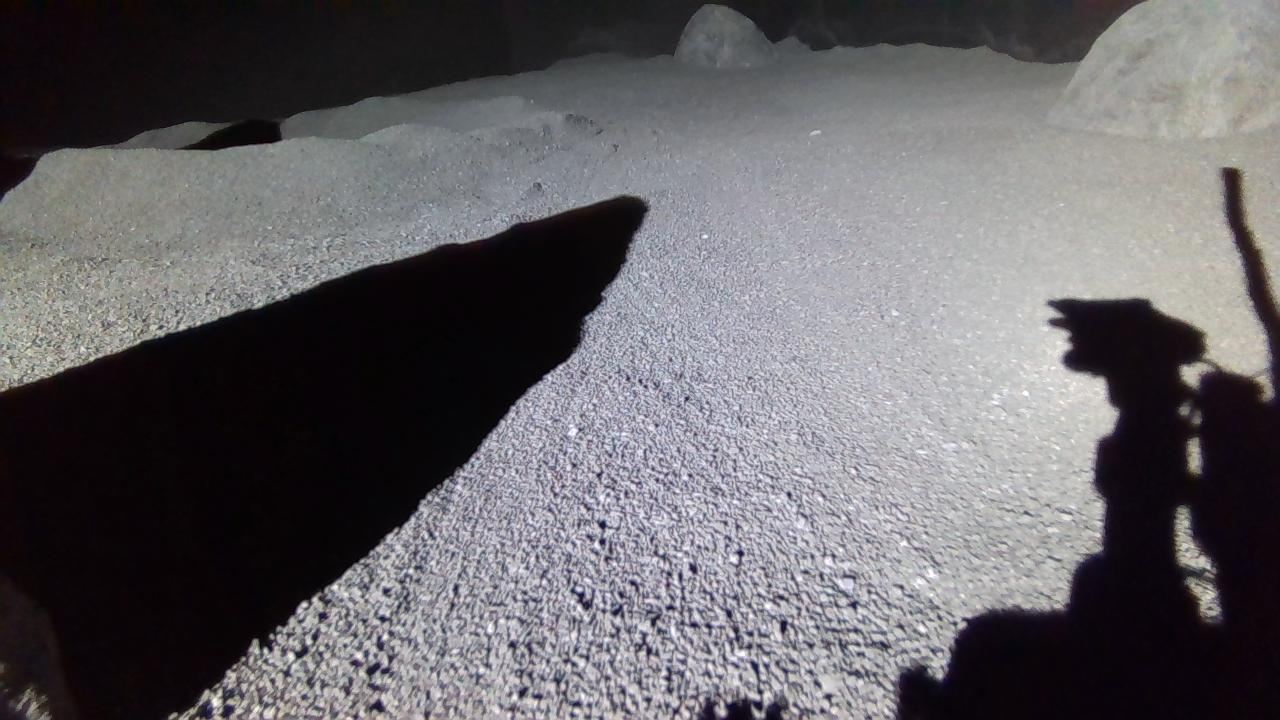rock: (1050, 0, 1280, 136), (675, 2, 774, 67)
